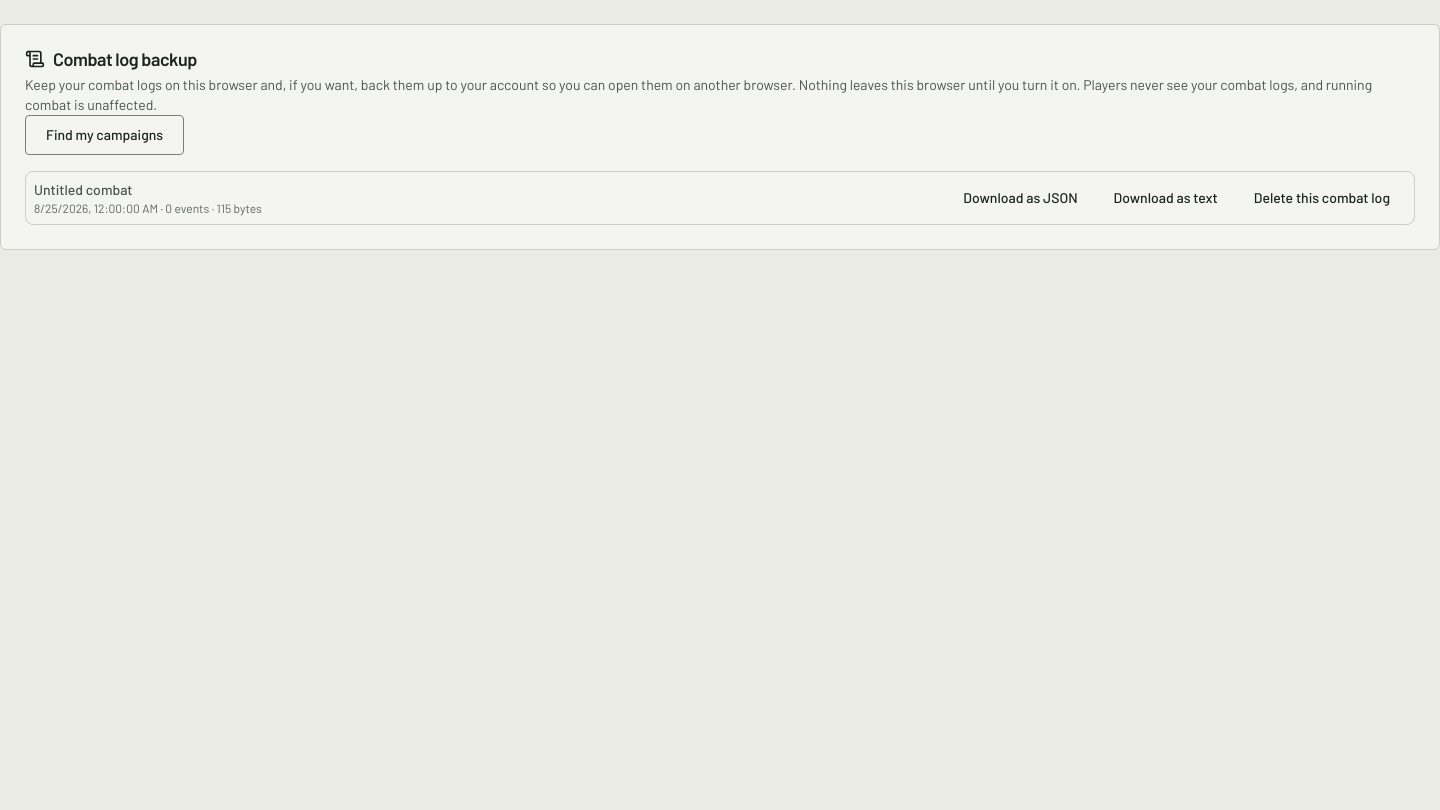
Test: CombatLogArchiveSyncControls durability guards › refuses a delete on an enrolled device that has not applied the account copy
Click the button "Find my campaigns" at (105, 135), box [25,115,184,155]
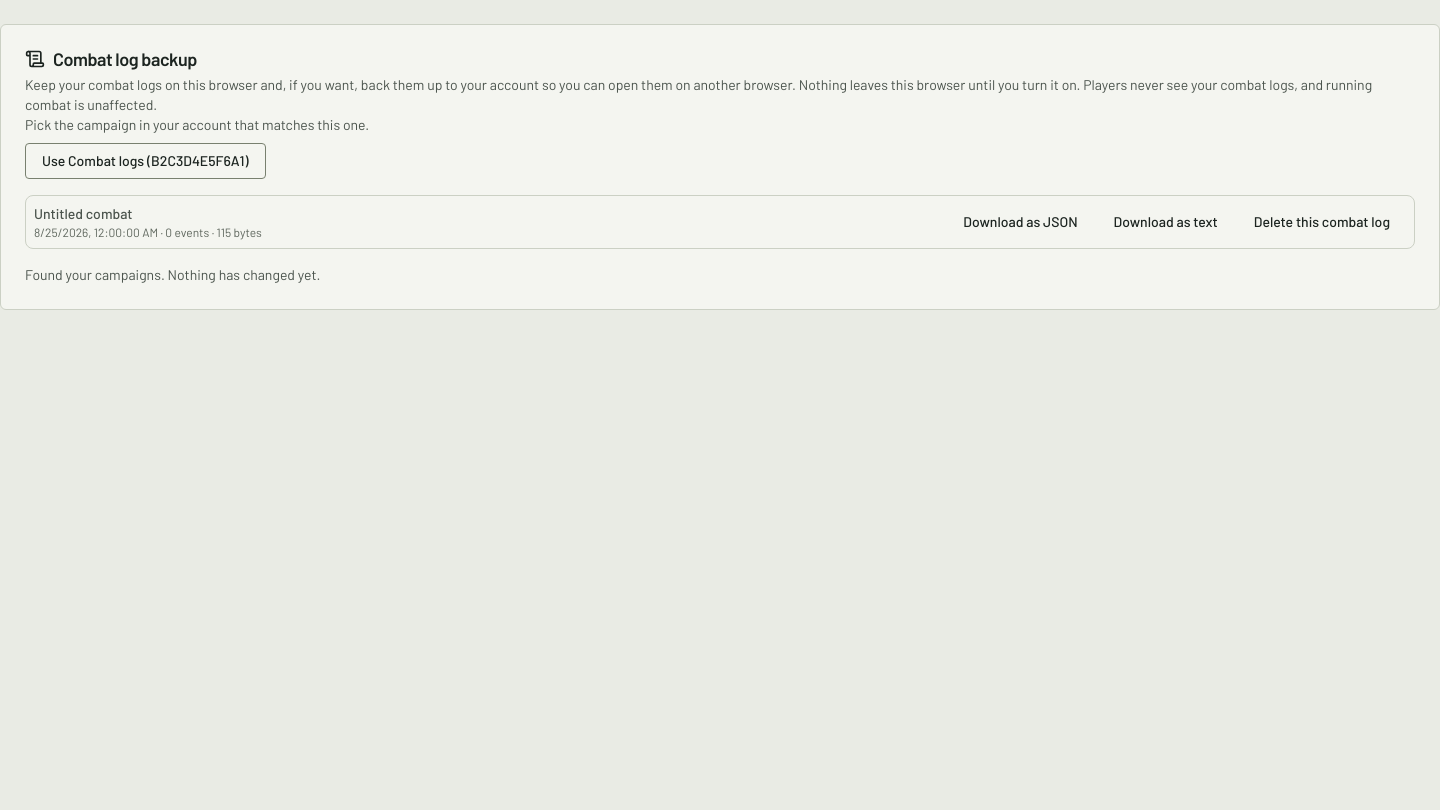
Click the button "Use Combat logs (B2C3D4E5F6A1)" at (145, 161), box [25,143,266,179]
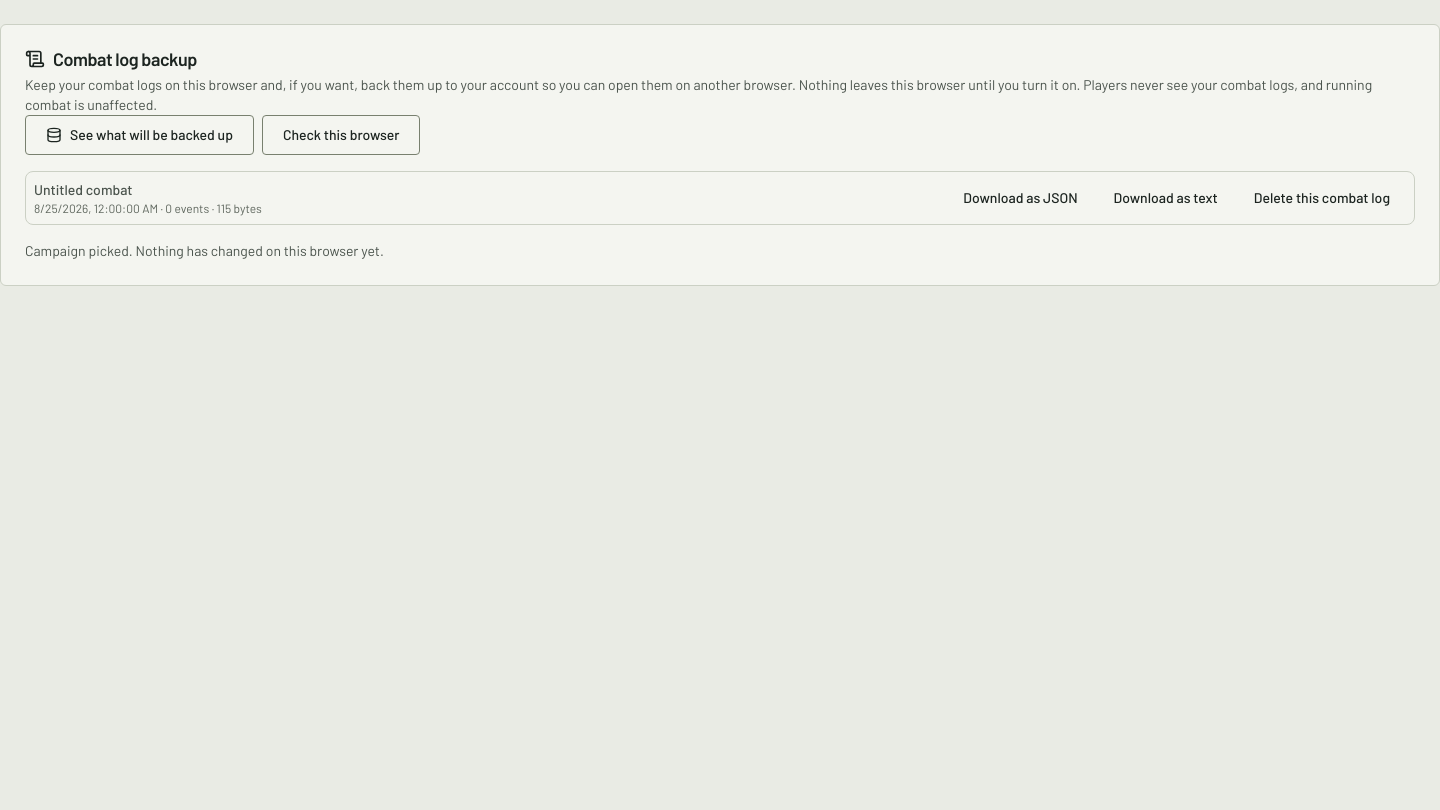
Click the button "Check this browser" at (341, 135), box [262,115,420,155]
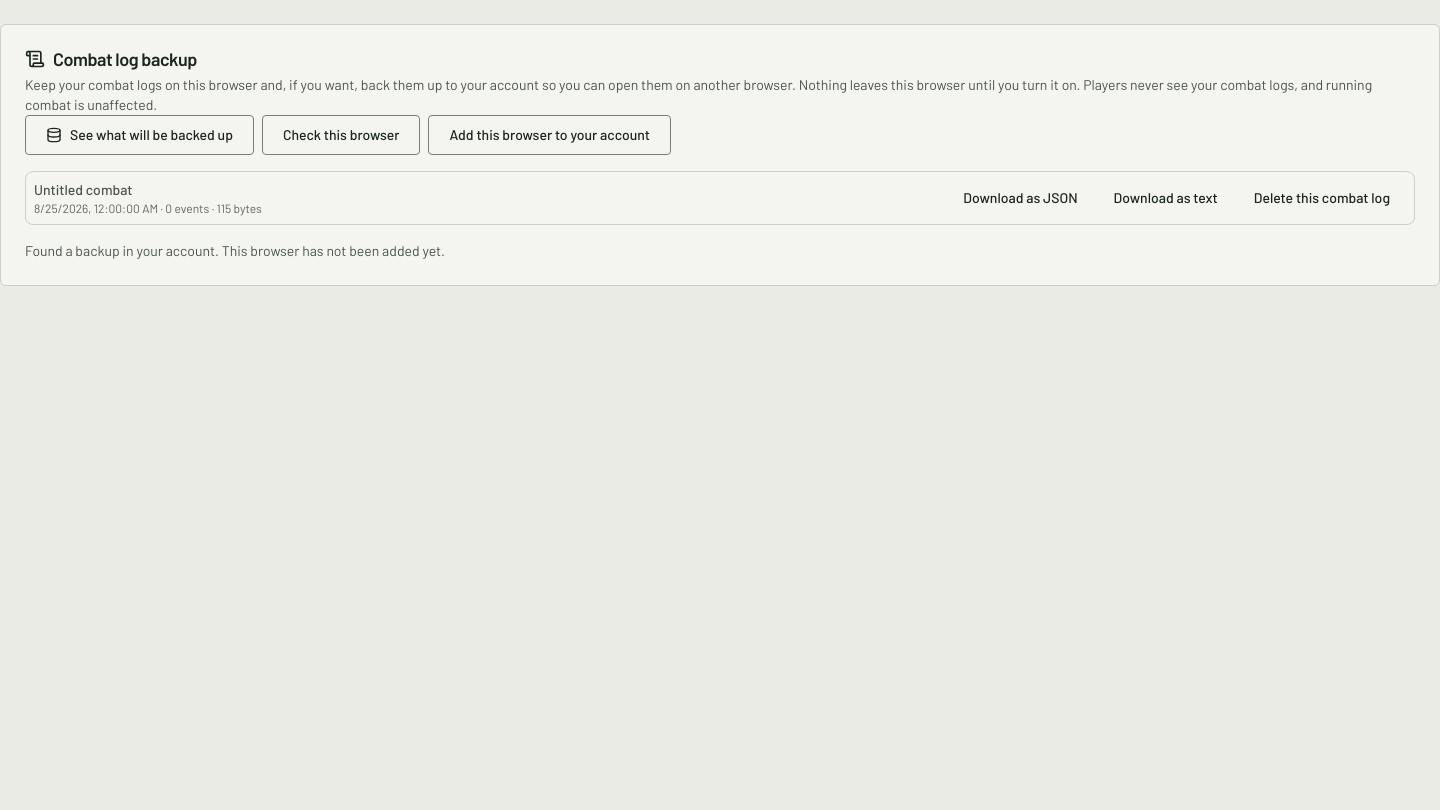
Click the button "Add this browser to your account" at (550, 135), box [428,115,671,155]
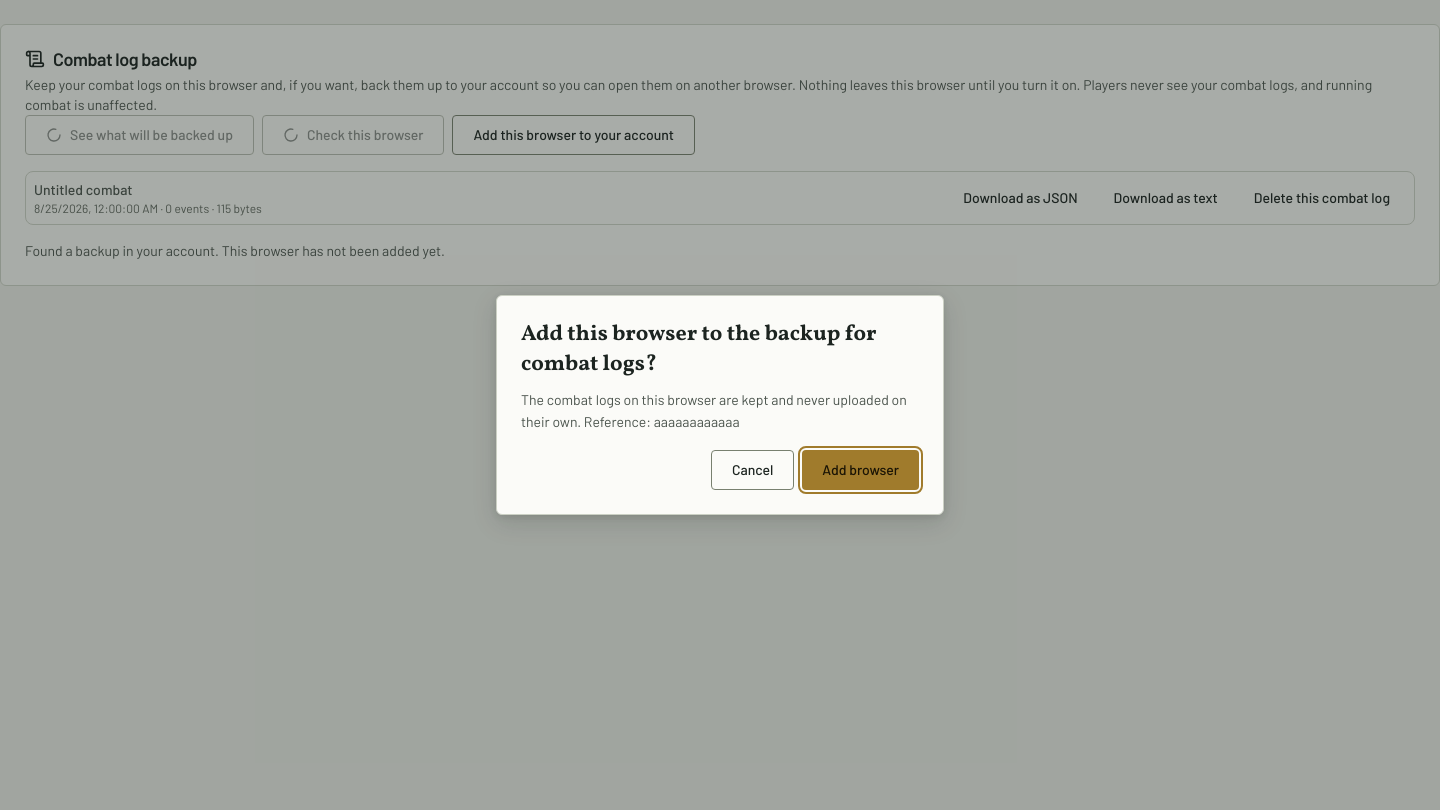
Click the button "Add browser" at (861, 470), box [802,450,919,490]
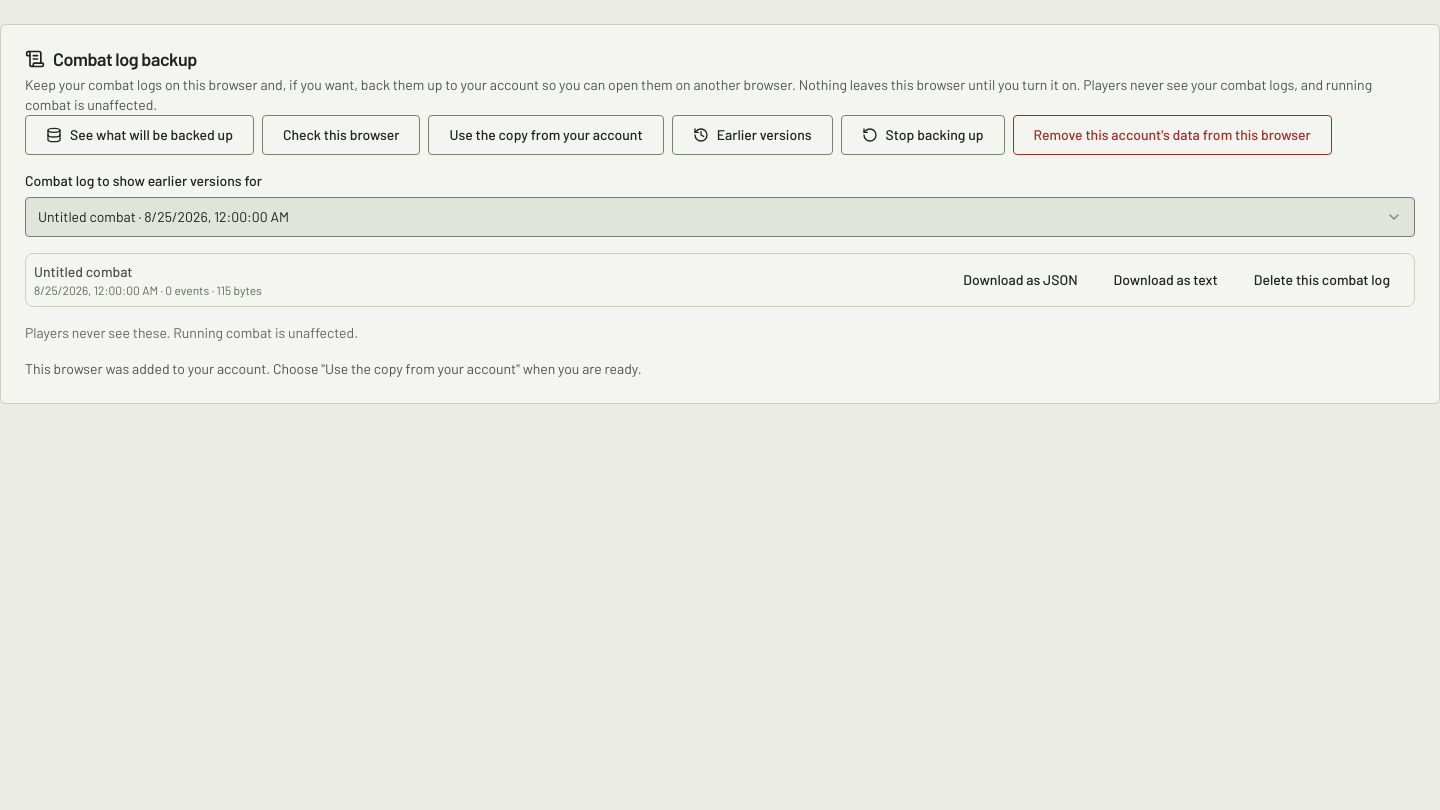
Now the text "This browser was added to your account. Choose \"Use the copy from your account\" when you are ready." is shown, box [25,360,642,377]
Click the button "Delete this combat log" at (1322, 280), box [1238,262,1406,298]
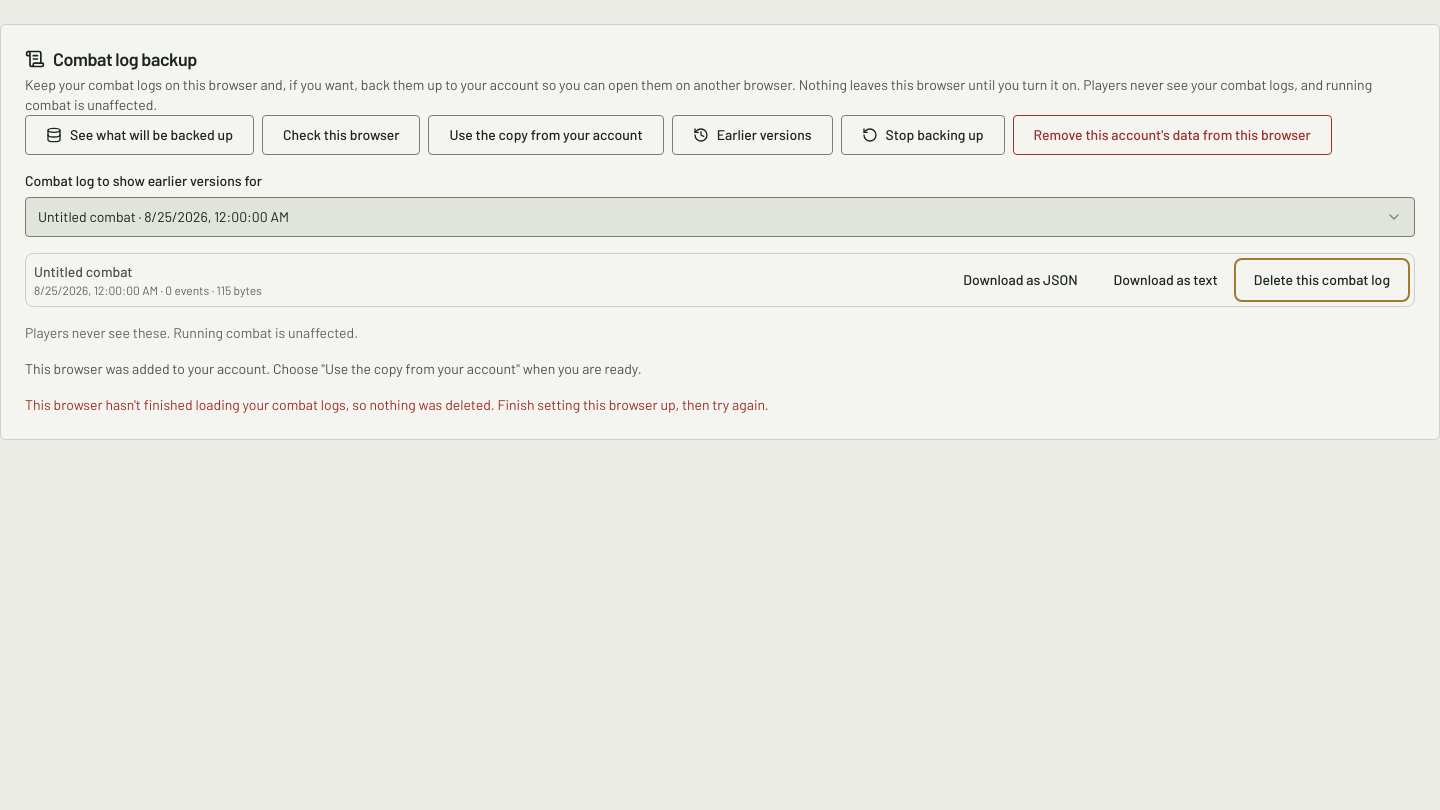
Now the text "This browser hasn't finished loading your combat logs, so nothing was deleted. Finish setting this browser up, then try " is shown, box [25,396,769,413]
